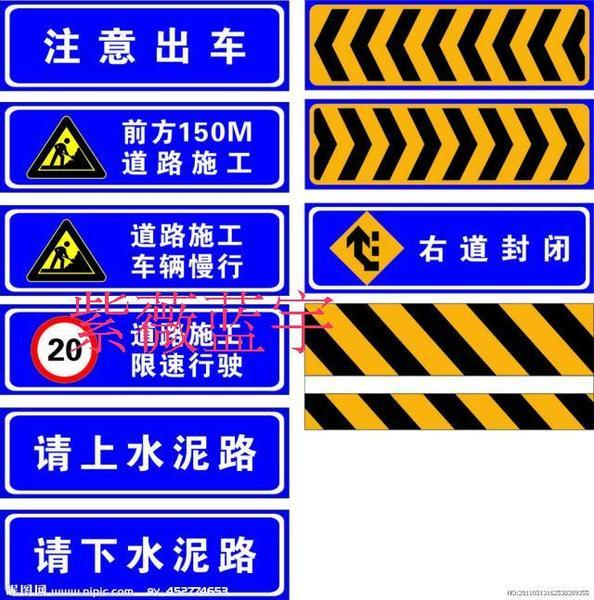sign: (2, 6, 288, 90), (307, 102, 594, 185), (310, 206, 592, 290), (2, 106, 282, 190), (307, 6, 590, 85), (4, 209, 282, 289)
